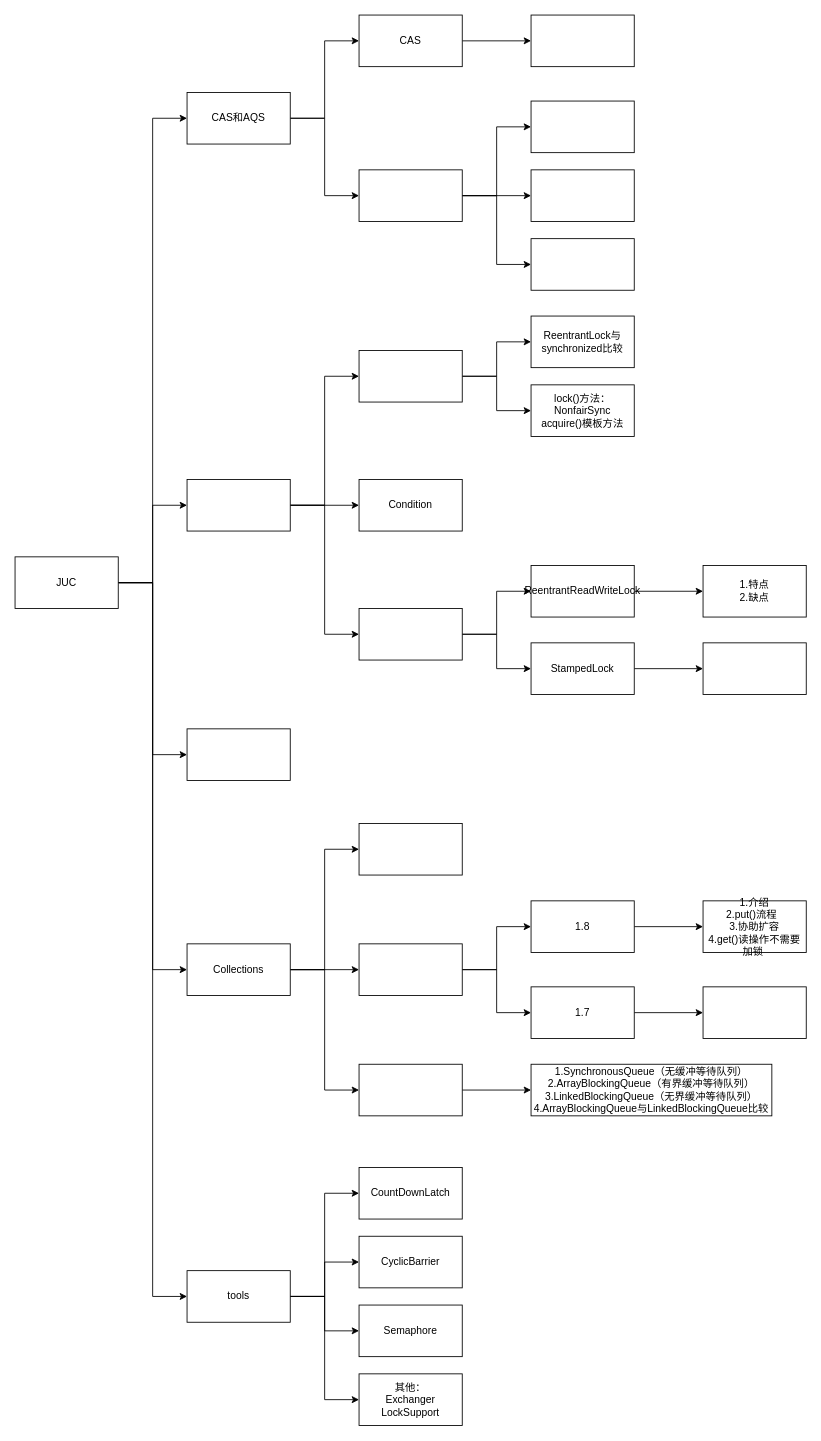
Some shapes in this 821 by 1441 pixel diagram are drawn without their labels. The centre of each missing label's shape, as x and y in pixels:
1.定义（特点） 2.函数方程 3.缺点: [582,40]
AQS: [410,195]
Atmoic: [238,754]
BlockingQueue: [410,1089]
ConcurrentHashMap: [410,969]
CopyOnWriteArrayList: [410,849]
Lock: [238,505]
ReentrantLock: [410,376]
读写锁: [410,634]
